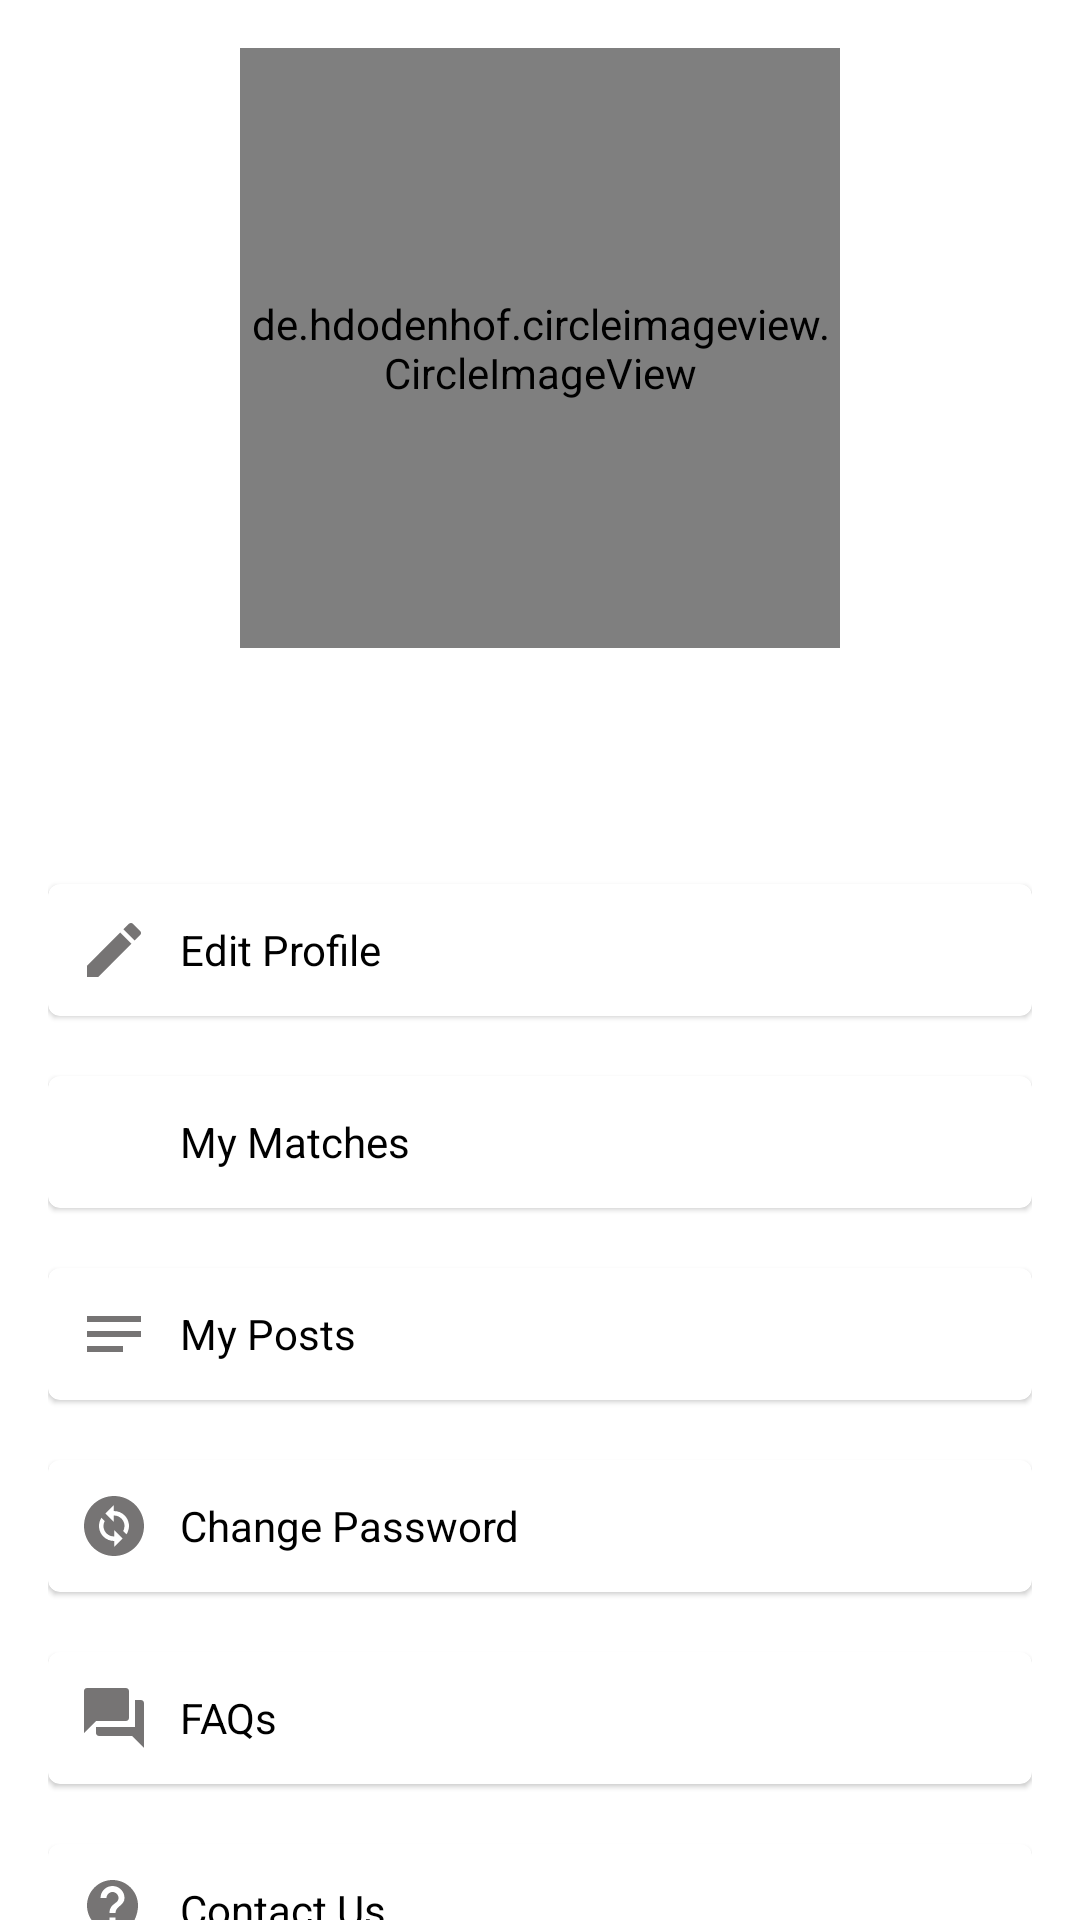

Icon click points for this 1080w x 1920h phone screenshot, format (x,y):
change circle: (114,1526)
mode edit: (114,950)
notes: (114,1334)
question answer: (114,1718)
